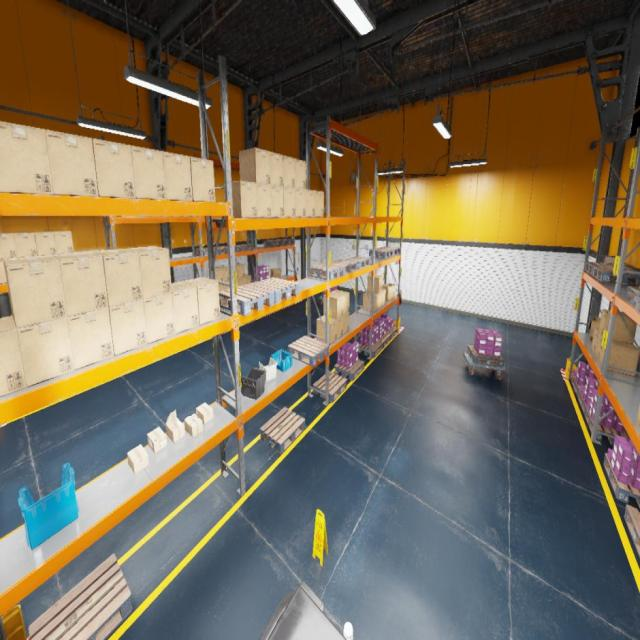box: (3, 255, 67, 328), (0, 121, 54, 195), (17, 317, 74, 387), (52, 251, 108, 317), (45, 129, 99, 197), (67, 307, 114, 370), (93, 248, 143, 306), (92, 138, 135, 198), (126, 246, 172, 299), (0, 315, 27, 397), (109, 300, 148, 356), (131, 146, 167, 200), (182, 276, 220, 325), (144, 293, 175, 344), (163, 151, 193, 201), (599, 341, 639, 376), (172, 281, 198, 334), (598, 309, 636, 343), (224, 181, 257, 218), (239, 148, 271, 185), (190, 156, 215, 202), (595, 333, 633, 361), (12, 232, 38, 258), (127, 444, 149, 474), (166, 410, 185, 442), (317, 315, 337, 345), (32, 232, 56, 256), (256, 183, 272, 217), (324, 292, 344, 319), (147, 427, 167, 453), (52, 231, 74, 254), (270, 152, 284, 186), (0, 232, 17, 259), (184, 413, 203, 437), (331, 290, 349, 315), (271, 186, 284, 217), (0, 258, 15, 284), (283, 155, 295, 187), (196, 402, 213, 423), (295, 158, 306, 189), (284, 187, 295, 217), (363, 291, 378, 312), (588, 317, 601, 341), (368, 274, 382, 294), (306, 189, 316, 217), (296, 189, 306, 217), (382, 283, 396, 300), (315, 191, 324, 217), (369, 292, 382, 309), (592, 328, 599, 356), (217, 266, 230, 281), (337, 316, 343, 339), (343, 312, 349, 334), (236, 264, 244, 278), (270, 268, 281, 278), (215, 268, 223, 281), (636, 402, 640, 426), (223, 281, 230, 291), (382, 289, 386, 306), (74, 249, 90, 253), (245, 274, 251, 284), (238, 278, 245, 286), (218, 284, 224, 291), (87, 249, 106, 251), (237, 278, 239, 286)
forklift: (259, 580, 354, 639)
pallets: (29, 554, 132, 640), (261, 407, 305, 454), (603, 453, 640, 508), (585, 406, 630, 446), (220, 285, 274, 315), (248, 277, 300, 304), (288, 336, 329, 366), (313, 371, 347, 402), (593, 266, 640, 285), (624, 504, 640, 558), (468, 345, 504, 367), (335, 358, 364, 381), (585, 262, 632, 275), (311, 264, 346, 280), (325, 259, 357, 274), (358, 340, 382, 358), (344, 256, 370, 269), (571, 374, 585, 396), (625, 286, 640, 305), (577, 389, 587, 414), (369, 248, 394, 258), (376, 332, 391, 348), (195, 248, 220, 257), (378, 246, 401, 255), (385, 326, 398, 339), (213, 247, 236, 254), (234, 244, 252, 252), (263, 240, 282, 246), (276, 238, 294, 244), (211, 331, 227, 337), (635, 296, 640, 314), (251, 278, 268, 282), (244, 319, 257, 324), (261, 312, 273, 316), (274, 308, 284, 312), (284, 304, 294, 307), (322, 291, 325, 297)
